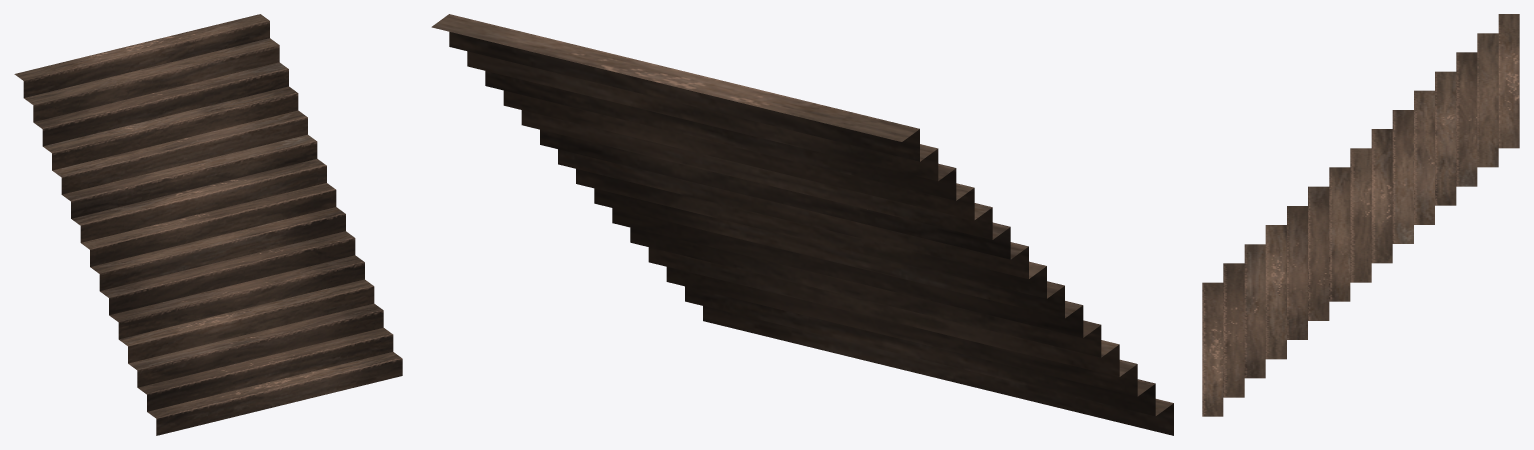
File: Stair.Wide_Full.fbx
The picture shows the model from 3 angles, left to right: view 1: azimuth 30°, elevation 25°; view 2: azimuth 150°, elevation 25°; view 3: azimuth 270°, elevation 25°; orthographic projection. The views are drawn at different scales.
Parts seen in each view (by area): view 1: Stair.Wide_Full; view 2: Stair.Wide_Full; view 3: Stair.Wide_Full.
Part boxes in pixels (<box>): Stair.Wide_Full: <box>14,14,402,435</box>; Stair.Wide_Full: <box>431,14,1173,435</box>; Stair.Wide_Full: <box>1202,14,1519,416</box>.
Size of the model in its own units: 300 by 300 by 300.
